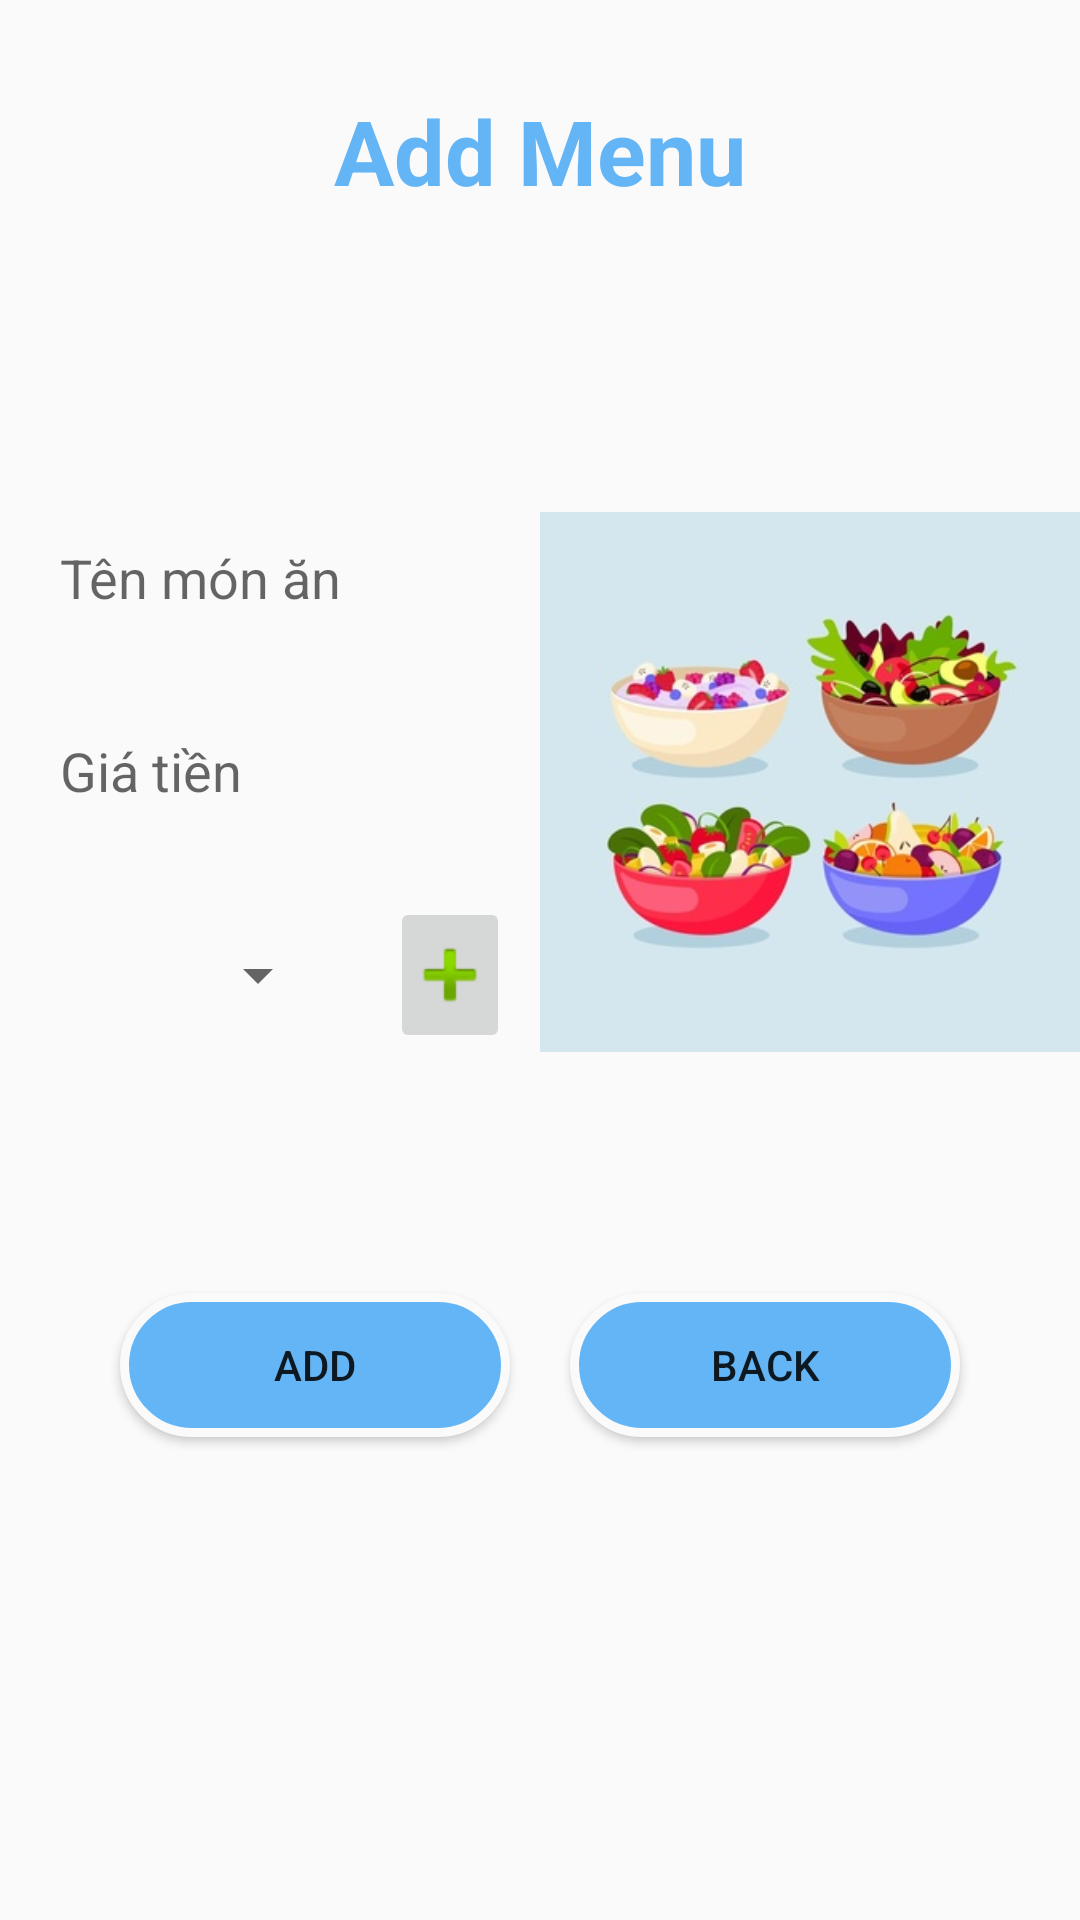

Icon click points for this 1080w x 1920h phone screenshot, format (x=x, y=y):
add: (x=450, y=975)
